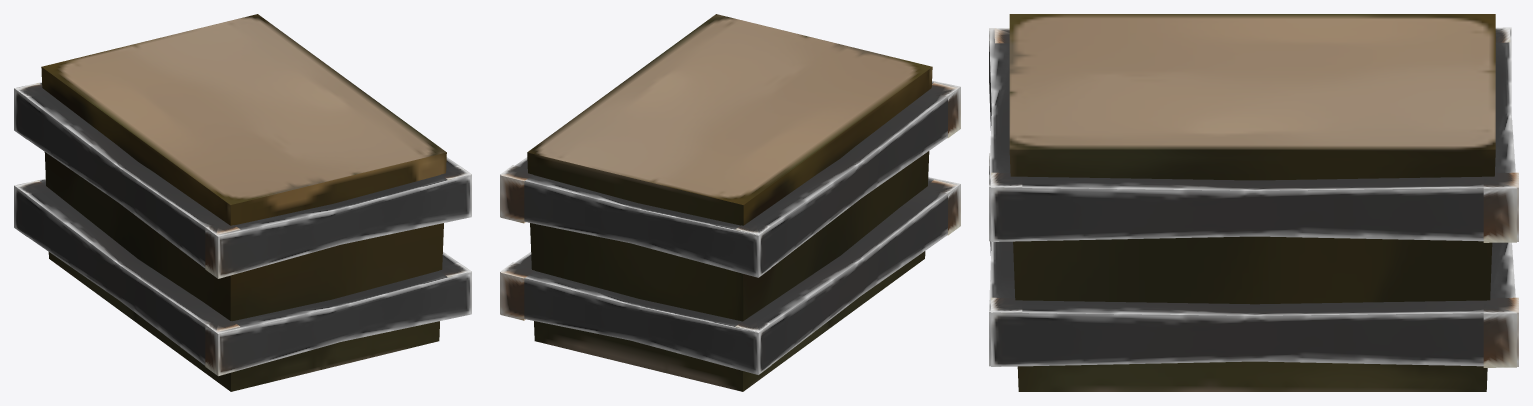
File: Rome_Village_Props_07.FBX
3 views of the same model, side by side, from view 1: azimuth 30°, elevation 25°; view 2: azimuth 150°, elevation 25°; view 3: azimuth 270°, elevation 25° (orthographic). The views are drawn at different scales.
Parts seen in each view (by area): view 1: Rome_Village_Props_07; view 2: Rome_Village_Props_07; view 3: Rome_Village_Props_07.
Part boxes in pixels (<box>): Rome_Village_Props_07: <box>14,14,471,391</box>; Rome_Village_Props_07: <box>500,14,960,391</box>; Rome_Village_Props_07: <box>989,14,1518,391</box>.
Bounding box in the file's own units: 80.86 × 57.29 × 112.
